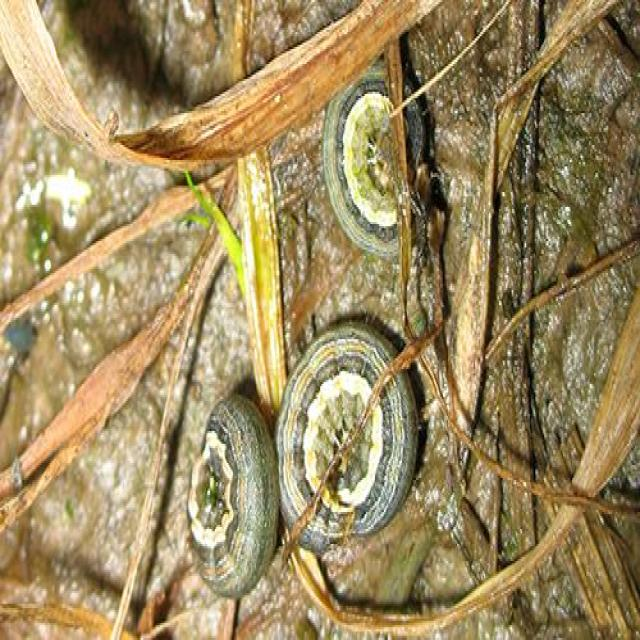armyworm: (284, 330, 418, 557), (321, 65, 442, 259), (186, 401, 281, 600)
